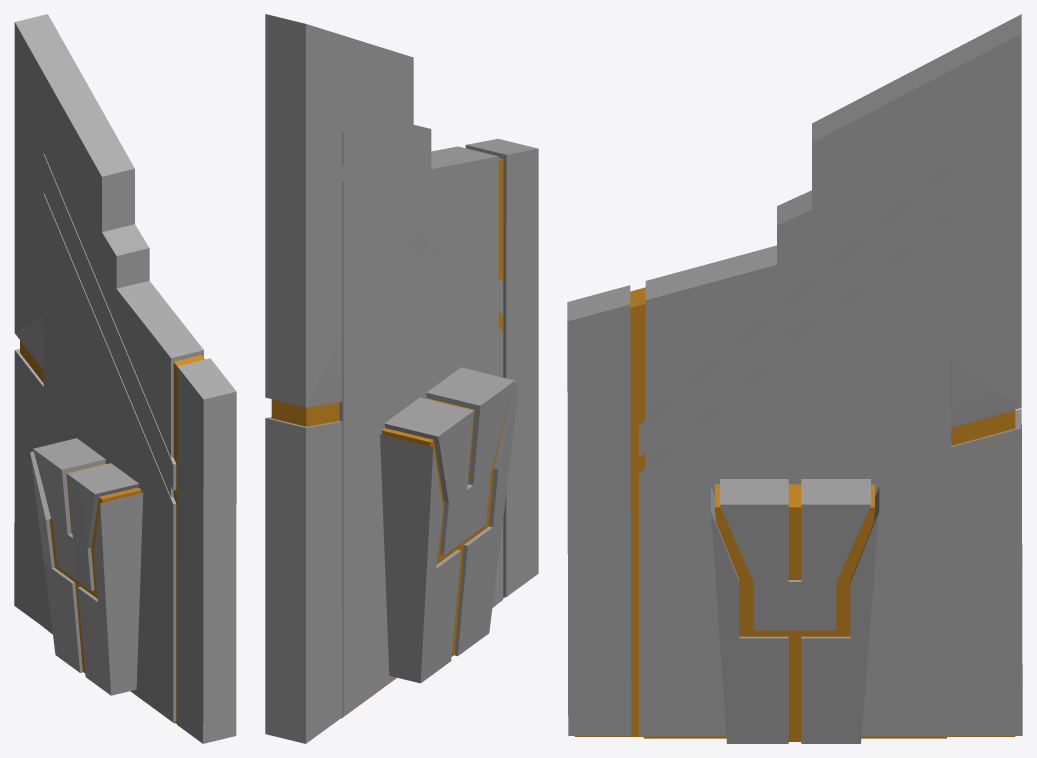
The model's file is Props.fbx.
3 views of the same model, side by side, from view 1: azimuth 30°, elevation 25°; view 2: azimuth 150°, elevation 25°; view 3: azimuth 270°, elevation 25° (orthographic). The views are drawn at different scales.
Visible parts, largest first — view 1: Wall1, Wall2, LightCube; view 2: Wall1, Wall2, LightCube; view 3: Wall1, Wall2, LightCube.
Boxes of the visible parts, x1,y1,x2,y2 form: Wall1: (14, 14, 236, 743); Wall2: (43, 154, 176, 723); LightCube: (30, 438, 143, 695); Wall1: (265, 14, 538, 743); Wall2: (339, 133, 502, 718); LightCube: (380, 367, 518, 683); Wall1: (567, 14, 1022, 736); Wall2: (639, 166, 950, 738); LightCube: (711, 479, 879, 743).
Bounding box in the file's own units: 0.2697 × 1.24 × 0.7237.
